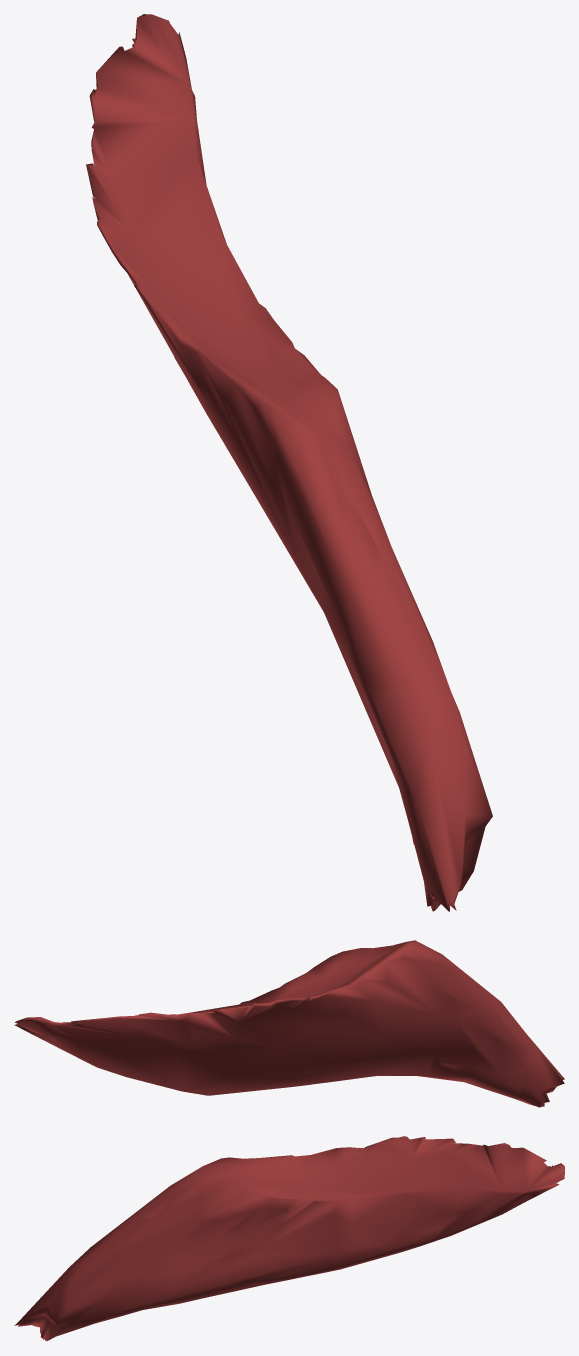
Rendered from obliquus-superior-capitis-muscle-r.glb.
3 renders of one model, top to bottom at view 1: azimuth 30°, elevation 25°; view 2: azimuth 150°, elevation 25°; view 3: azimuth 270°, elevation 25°, orthographic. The views are drawn at different scales.
Parts seen in each view (by area): view 1: Obliquus superior capitis muscle.r; view 2: Obliquus superior capitis muscle.r; view 3: Obliquus superior capitis muscle.r.
Part boxes in pixels (box(x1,y1,x2,y2)): Obliquus superior capitis muscle.r: box(86, 14, 492, 911); Obliquus superior capitis muscle.r: box(14, 940, 564, 1107); Obliquus superior capitis muscle.r: box(14, 1136, 564, 1340).
Size of the model in its own units: 0.0143 by 0.0229 by 0.0498.
